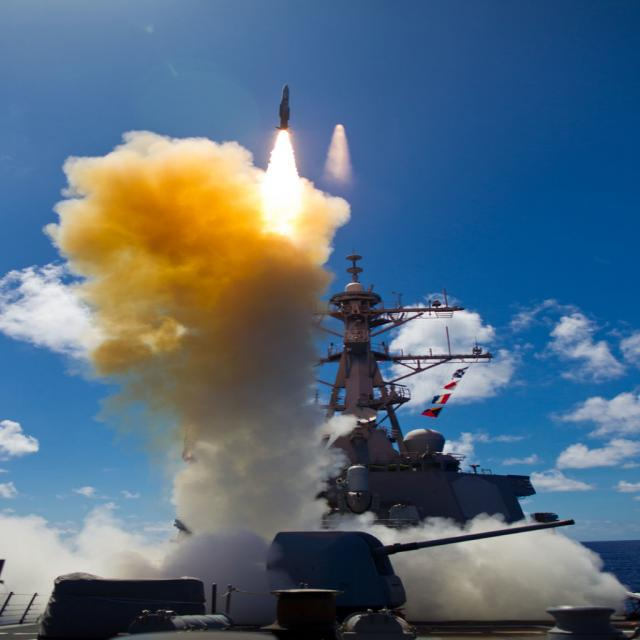rocket: (256, 84, 304, 224)
